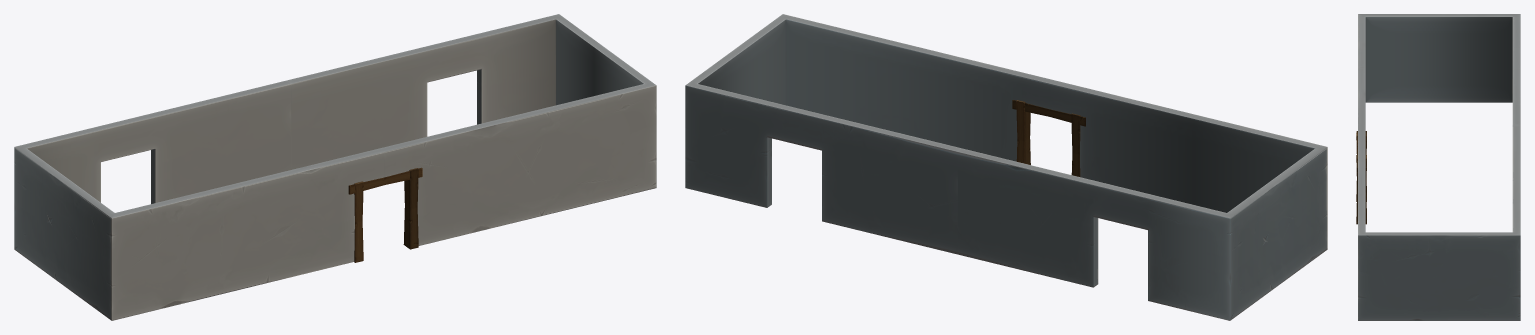
File: HousewallDoorFrame.fbx
3 renders of one model, left to right at view 1: azimuth 30°, elevation 25°; view 2: azimuth 150°, elevation 25°; view 3: azimuth 270°, elevation 25°, orthographic. The views are drawn at different scales.
Visible parts, largest first — view 1: Low_House_Walls_Retry, Wood Beam.003, Wood Beam.002, Wood Beam.004; view 2: Low_House_Walls_Retry, Wood Beam.003, Wood Beam.002, Wood Beam.004; view 3: Low_House_Walls_Retry, Wood Beam.003.
Part boxes in pixels (box(x1,y1,x2,y2)): Low_House_Walls_Retry: box(14, 14, 656, 320); Wood Beam.003: box(403, 168, 418, 249); Wood Beam.002: box(354, 181, 363, 262); Wood Beam.004: box(348, 167, 422, 194); Low_House_Walls_Retry: box(685, 14, 1327, 320); Wood Beam.003: box(1016, 100, 1030, 164); Wood Beam.002: box(1071, 113, 1080, 176); Wood Beam.004: box(1012, 100, 1085, 126); Low_House_Walls_Retry: box(1358, 14, 1520, 320); Wood Beam.003: box(1356, 155, 1366, 224).
Size of the model in its own units: 2000 by 362 by 627.
Materials: 2 (2 with a texture image).
